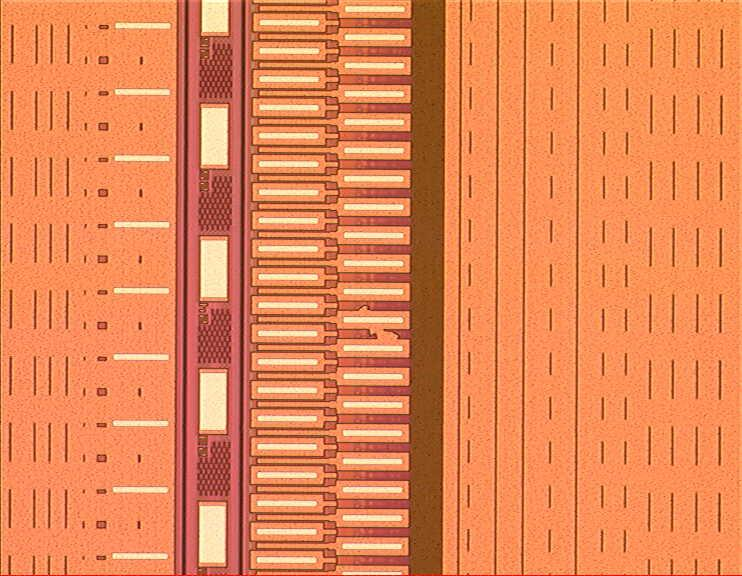BLOCK ETCH: (345, 300, 405, 352)
